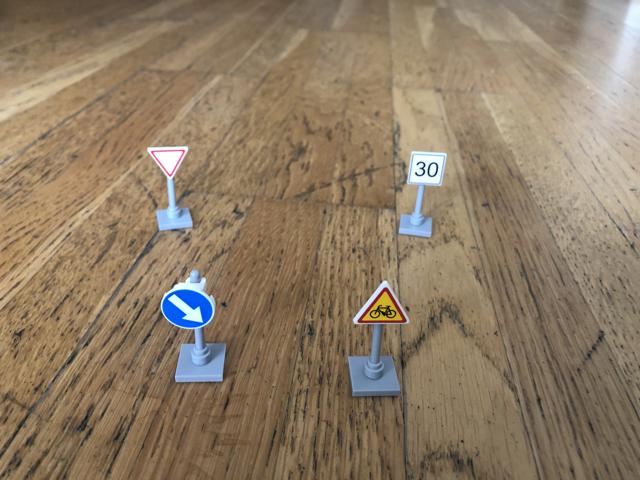radfahrer: (356, 281, 409, 326)
rechts halten: (159, 285, 219, 329)
tempolimit 30: (406, 151, 449, 187)
vorfahrt gewähren: (145, 144, 190, 179)
